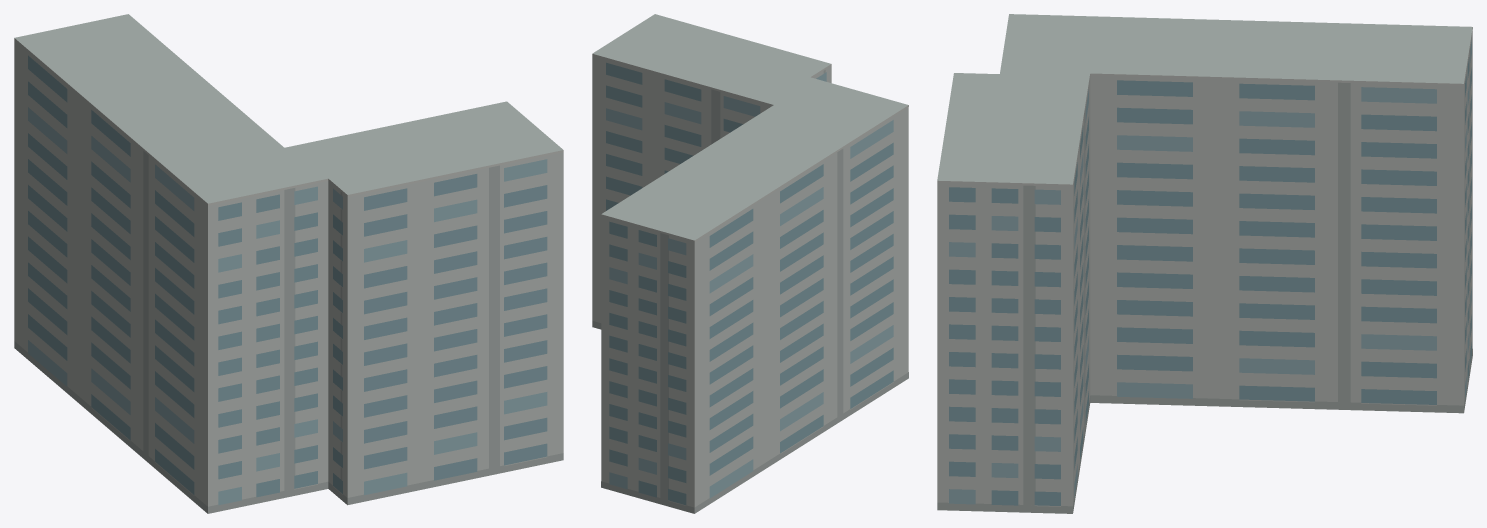
Rendered from residential-fc7b7ddf-1463-4ba8-99ee-f93dea36c955.glb.
3 renders of one model, left to right at view 1: azimuth 30°, elevation 25°; view 2: azimuth 150°, elevation 25°; view 3: azimuth 270°, elevation 25°, orthographic. The views are drawn at different scales.
Visible parts, largest first — view 1: residential-fc7b7ddf-1463-4ba8-99ee-f93dea36c955.tmp; view 2: residential-fc7b7ddf-1463-4ba8-99ee-f93dea36c955.tmp; view 3: residential-fc7b7ddf-1463-4ba8-99ee-f93dea36c955.tmp.
Boxes of the visible parts, x1,y1,x2,y2 form: residential-fc7b7ddf-1463-4ba8-99ee-f93dea36c955.tmp: [14, 14, 563, 513]; residential-fc7b7ddf-1463-4ba8-99ee-f93dea36c955.tmp: [592, 14, 908, 513]; residential-fc7b7ddf-1463-4ba8-99ee-f93dea36c955.tmp: [937, 14, 1472, 513].
Bounding box in the file's own units: 37.76 × 34 × 50.12.
